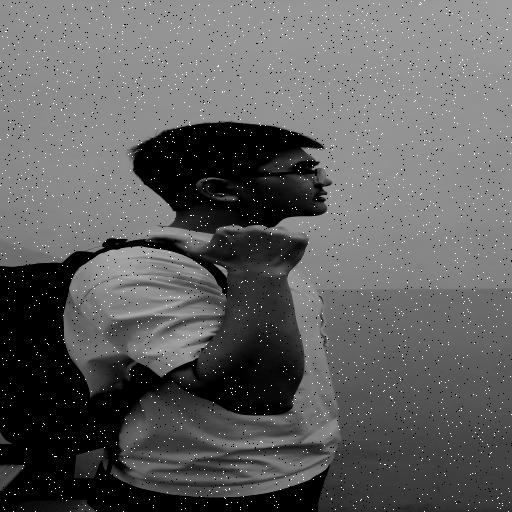back: (140, 216, 332, 276)
